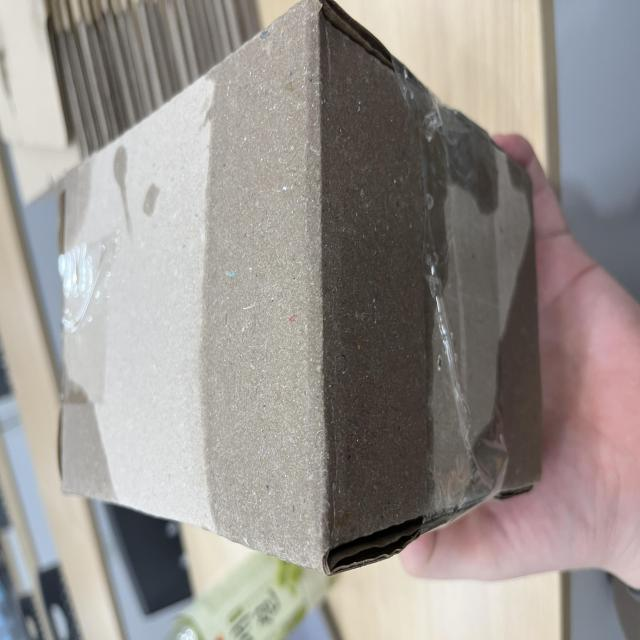wet: (51, 82, 454, 640)
